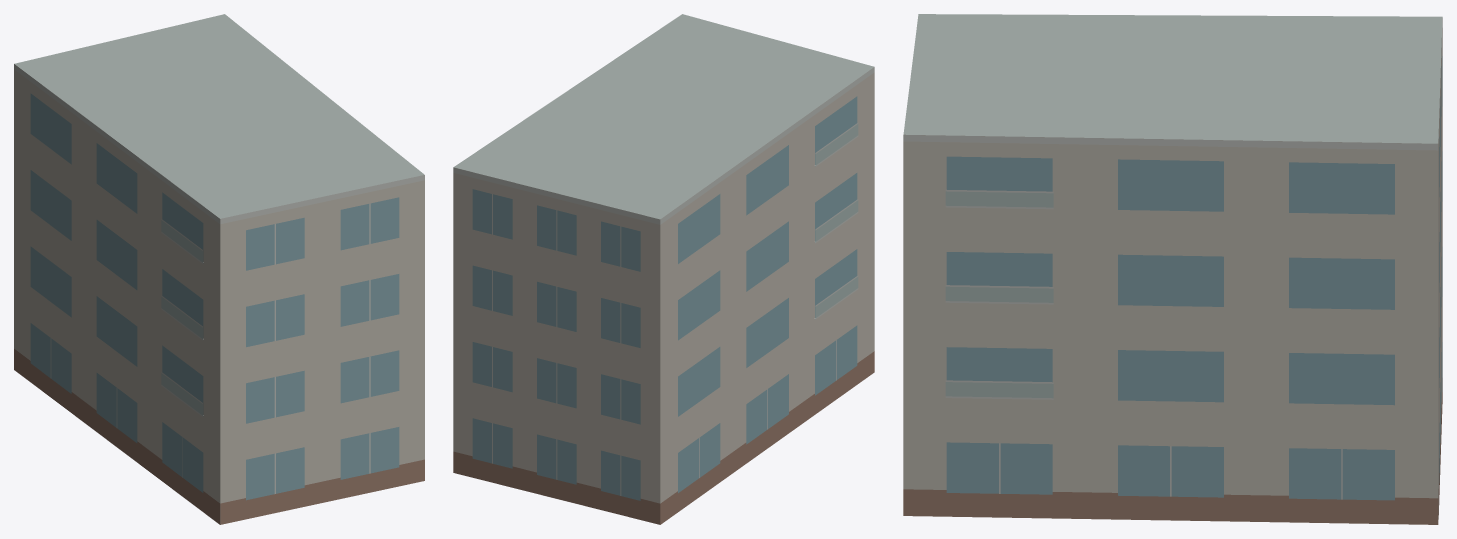
File: survey-upis-32499560.glb
The picture shows the model from 3 angles, left to right: view 1: azimuth 30°, elevation 25°; view 2: azimuth 150°, elevation 25°; view 3: azimuth 270°, elevation 25°; orthographic projection. The views are drawn at different scales.
Visible parts, largest first — view 1: survey-upis-32499560.tmp; view 2: survey-upis-32499560.tmp; view 3: survey-upis-32499560.tmp.
Part boxes in pixels (x1,y1,x2,y2): survey-upis-32499560.tmp: (14,14,424,524); survey-upis-32499560.tmp: (453,14,874,524); survey-upis-32499560.tmp: (903,14,1442,524).
Size of the model in its own units: 10.03 by 13.7 by 17.57.
